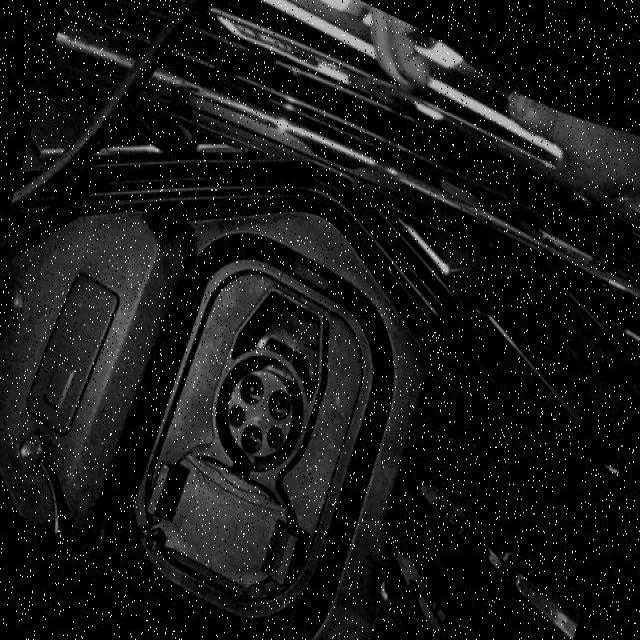Type 1: (194, 352, 321, 474)
